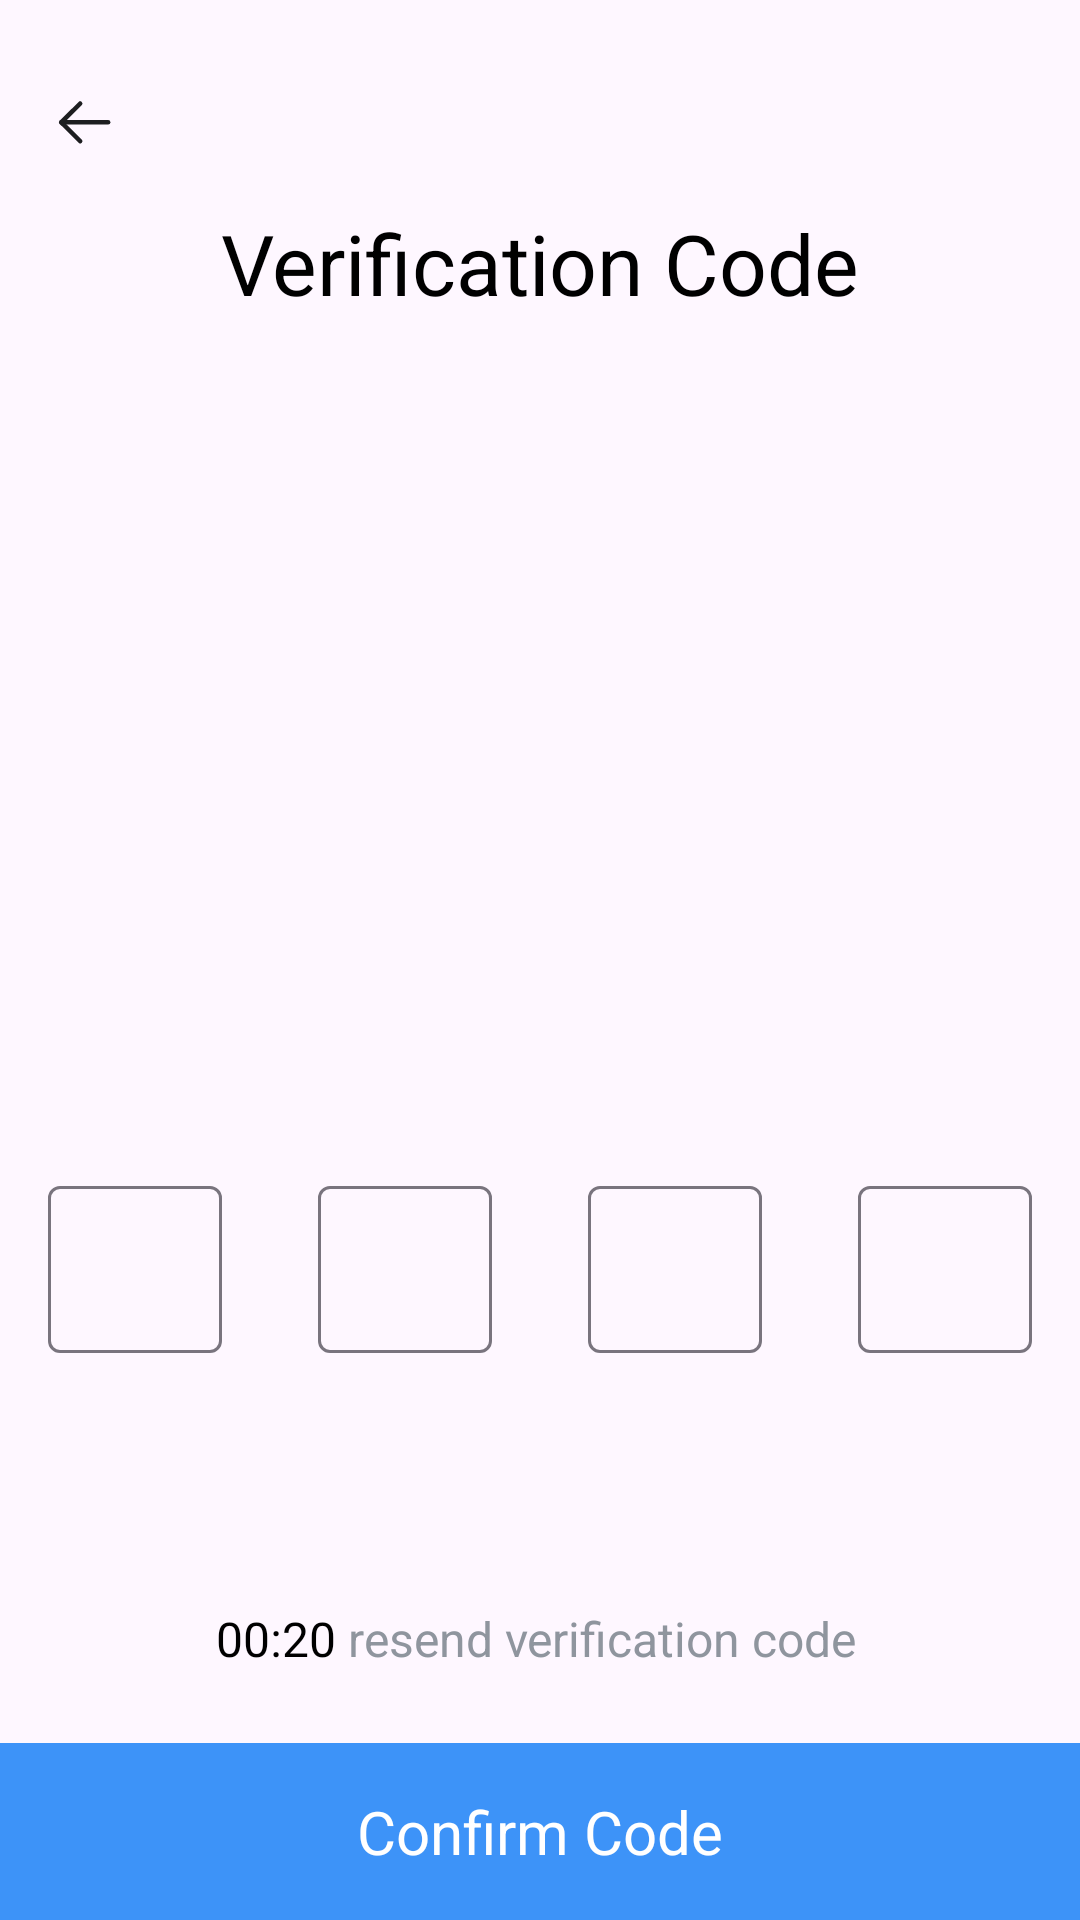

Icon click points for this 1080w x 1920h phone screenshot, format [x,y]:
back: [85,122]
